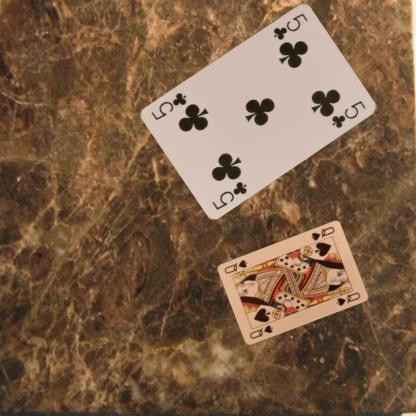5c: (209, 178, 249, 211), (271, 10, 309, 41)
Qs: (308, 223, 336, 242), (247, 322, 274, 340)
